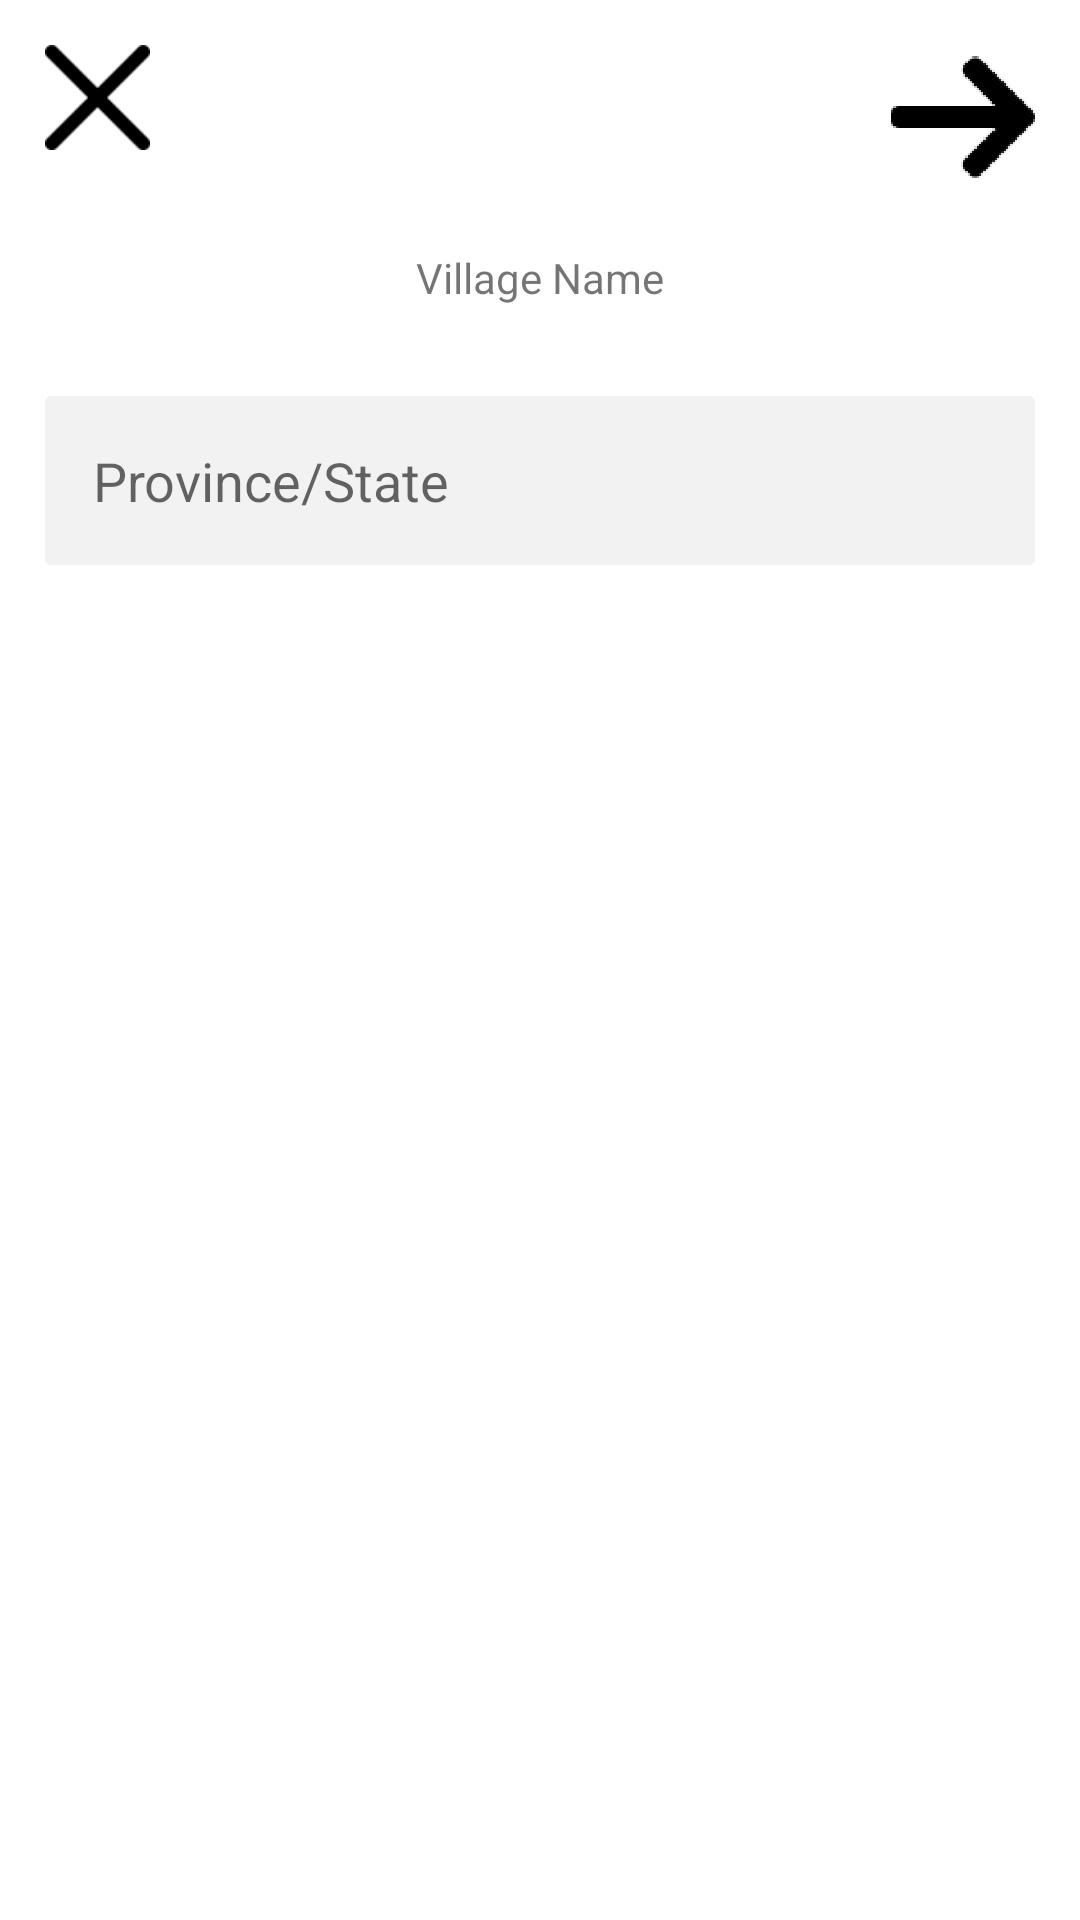

Screen size 1080 x 1920. Icon name, then its center in pixels as (x=x, y=y):
close: (x=97, y=97)
right arrow: (x=963, y=117)
